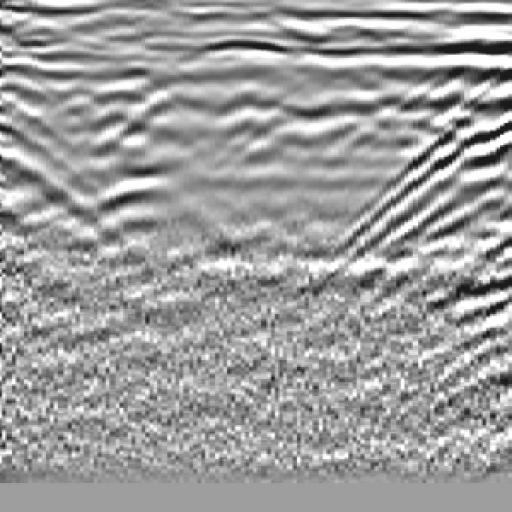metalic: (63, 34, 227, 286)
nonmetalic: (355, 44, 512, 314)
